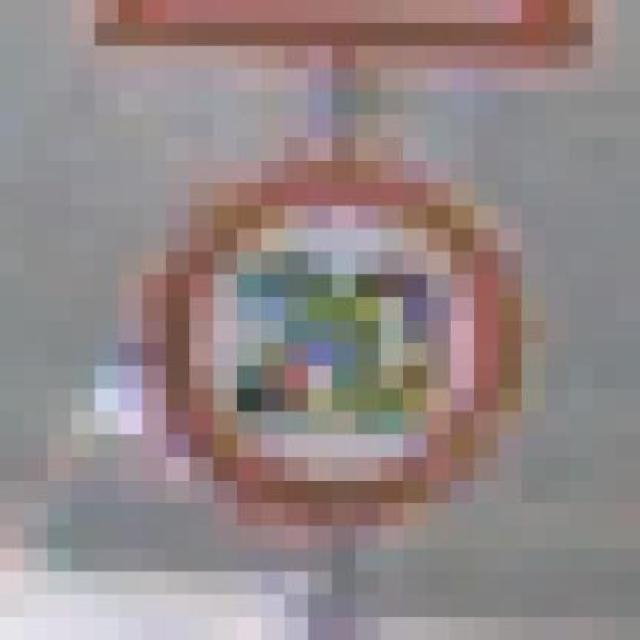forb_speed_over_20: (164, 173, 515, 502)
